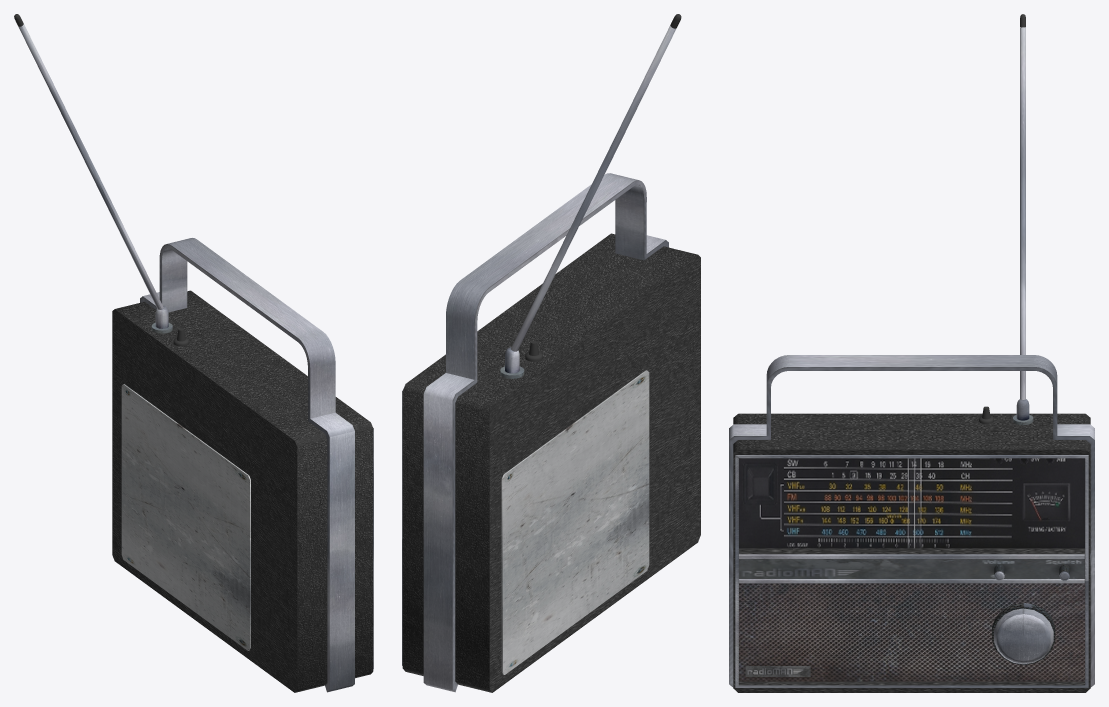
File: radio.obj
The picture shows the model from 3 angles, left to right: view 1: azimuth 30°, elevation 25°; view 2: azimuth 150°, elevation 25°; view 3: azimuth 270°, elevation 25°; orthographic projection. The views are drawn at different scales.
Visible parts, largest first — view 1: default; view 2: default; view 3: default.
Part boxes in pixels (box(x1,y1,x2,y2)): default: box(14, 14, 373, 692); default: box(402, 14, 700, 692); default: box(729, 14, 1094, 692).
Size of the model in its own units: 12.88 by 34.14 by 19.31.
Materials: 1 (1 with a texture image).
